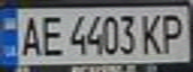0: (103, 11, 121, 56)
3: (118, 11, 139, 56)
4: (84, 11, 106, 56), (66, 11, 87, 56)
A: (15, 12, 45, 59)
E: (36, 11, 66, 57)
K: (136, 10, 166, 55)
P: (157, 10, 190, 54)
